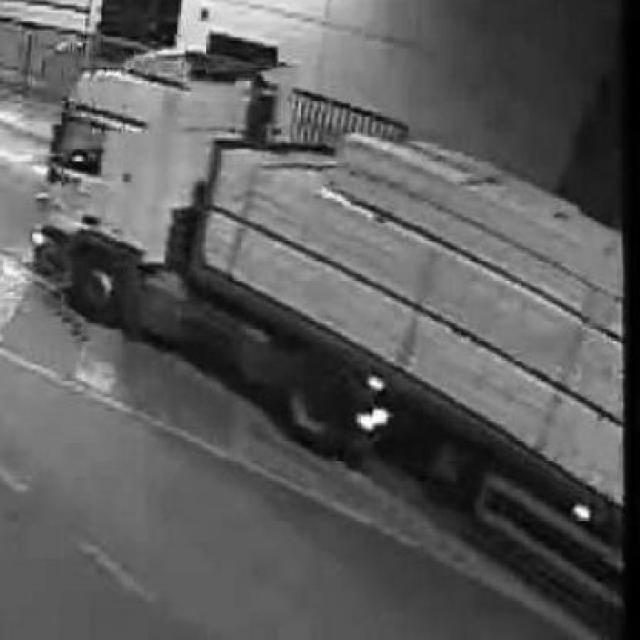Tractor Trailer: (26, 49, 625, 618)
